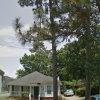Tree: (9, 1, 100, 67)
